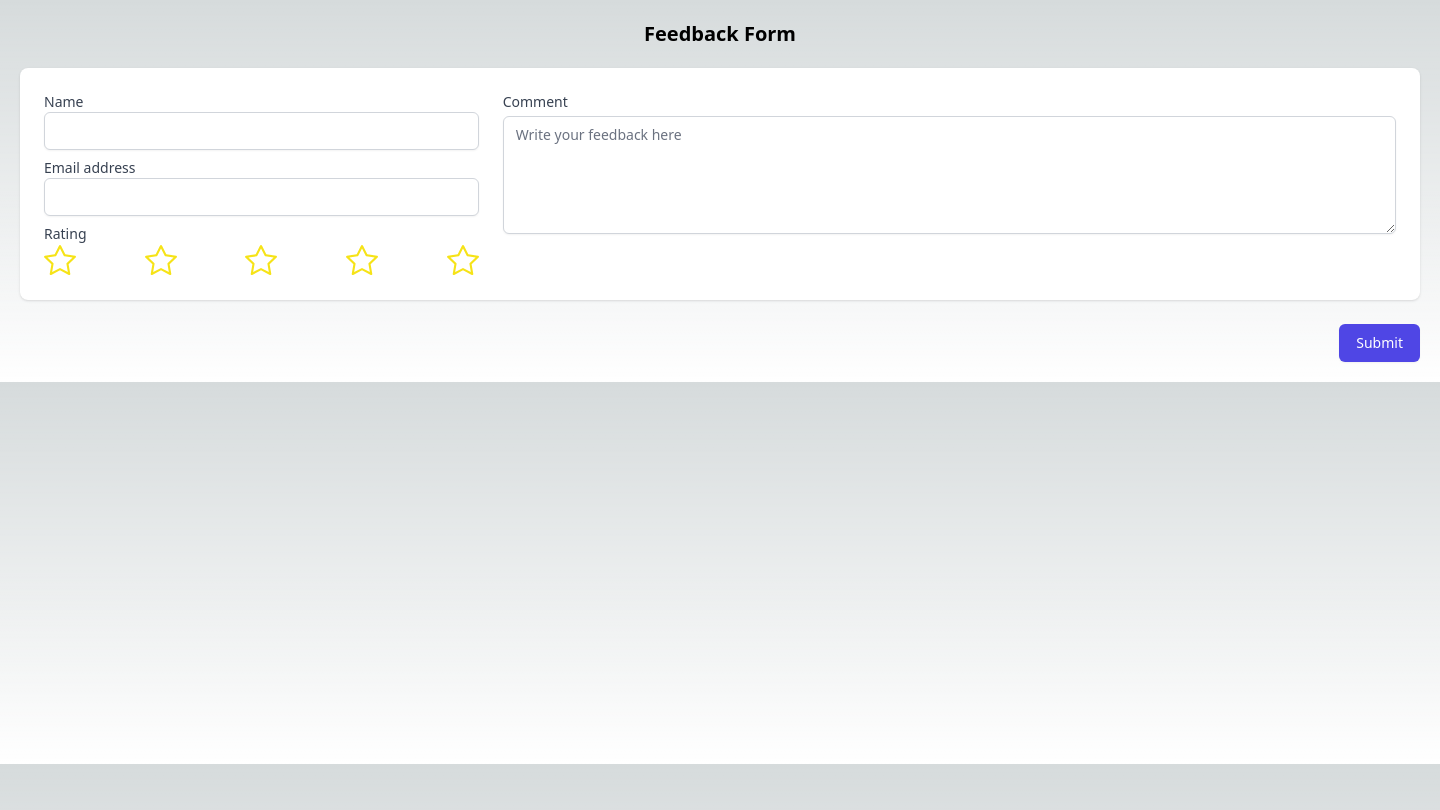
Test case: Index Page › disables the Submit button when all fields are incorrect
Click the button with aria-label "Form submission".
click(1380, 343)  # box [1339, 324, 1420, 362]
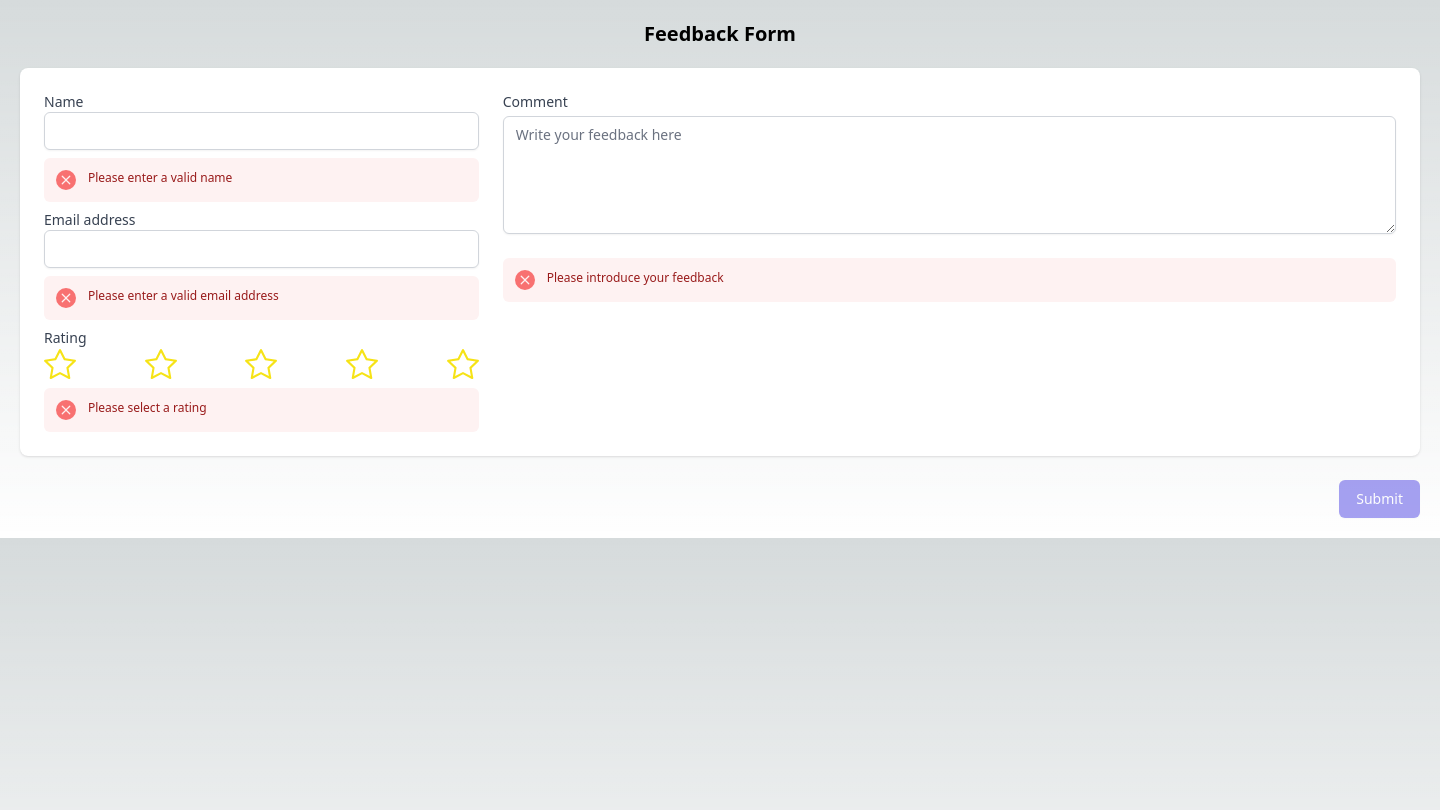
Result: the heading "Please enter a valid name" is shown at [88, 170, 232, 186]
Result: the heading "Please enter a valid email address" is shown at [88, 288, 279, 304]
Result: the heading "Please select a rating" is shown at [88, 400, 207, 416]
